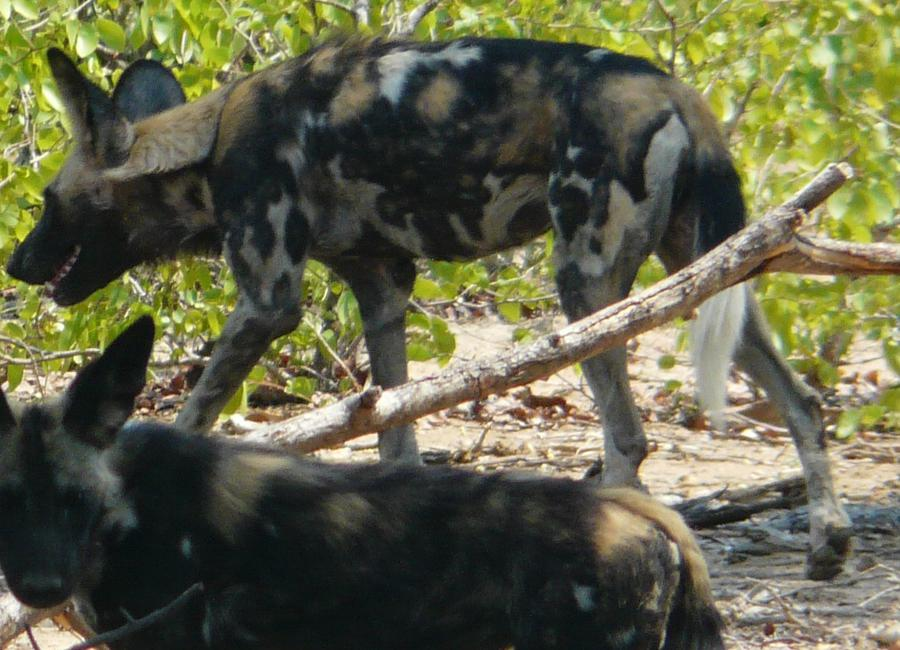wilddog: (57, 22, 743, 398)
